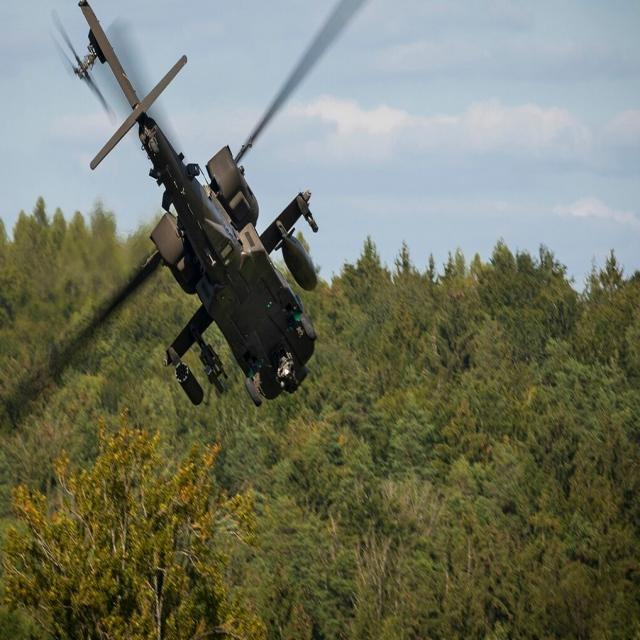helicopter: (1, 1, 408, 480)
